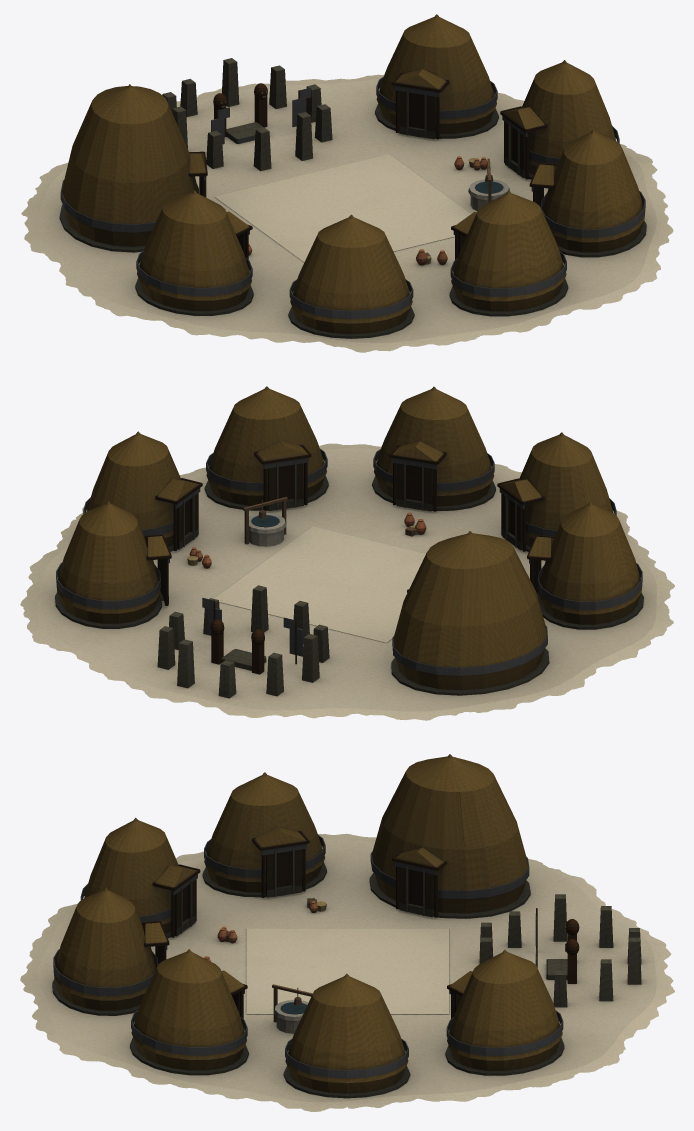
Rendered from bronze-town-small-a-eastafrica-40cbd5b5.glb.
3 views of the same model, one above another, from view 1: azimuth 30°, elevation 25°; view 2: azimuth 150°, elevation 25°; view 3: azimuth 270°, elevation 25° (orthographic).
Parts seen in each view (by area): view 1: LOD0; view 2: LOD0; view 3: LOD0.
Part boxes in pixels (x1=…): LOD0: x1=21, y1=14, x2=673, y2=352; LOD0: x1=20, y1=386, x2=674, y2=720; LOD0: x1=20, y1=754, x2=674, y2=1111.
Size of what is drawn, in the model's own units: 3.99 by 0.9034 by 3.95.
3 materials, 3 textured.
